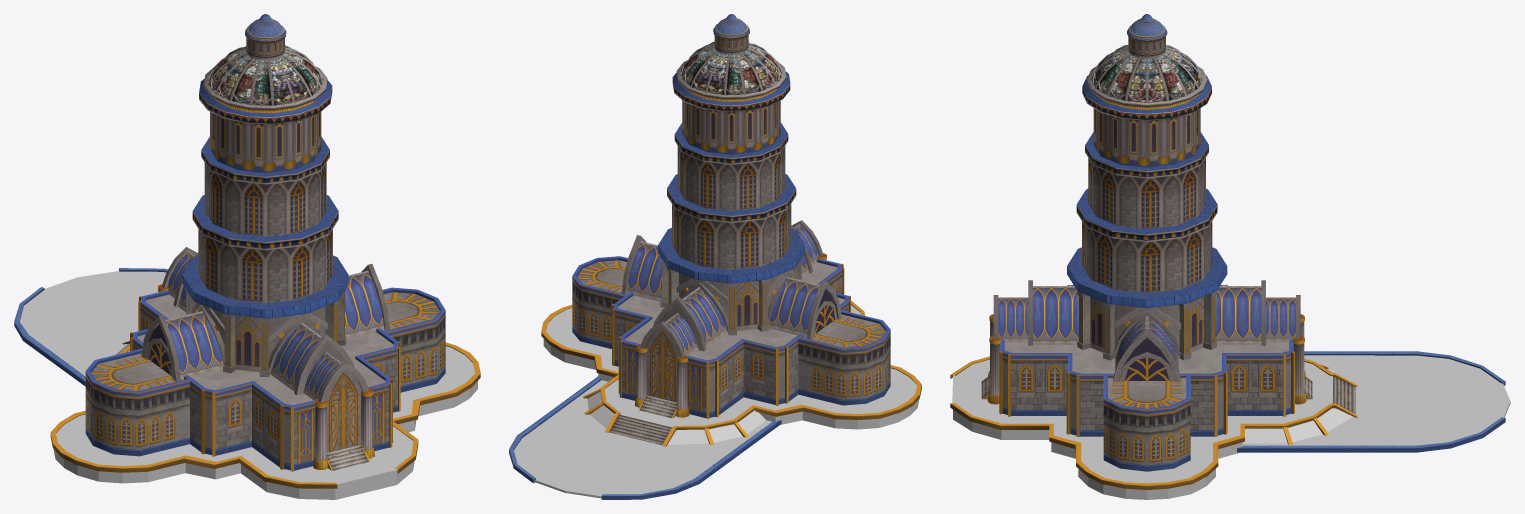
The model's file is NewBattle03_all02.FBX.
The picture shows the model from 3 angles, left to right: view 1: azimuth 30°, elevation 25°; view 2: azimuth 150°, elevation 25°; view 3: azimuth 270°, elevation 25°; orthographic projection. The views are drawn at different scales.
Parts seen in each view (by area): view 1: NewBattle03_wall02_03, NewBattle03_wall02_01, NewBattle03_ground02_01, NewBattle03_wall02_02, NewBattle03_ground02_02, NewBattle03_wall02_04; view 2: NewBattle03_wall02_03, NewBattle03_wall02_01, NewBattle03_ground02_01, NewBattle03_wall02_02, NewBattle03_ground02_02, NewBattle03_wall02_04; view 3: NewBattle03_wall02_03, NewBattle03_wall02_01, NewBattle03_ground02_01, NewBattle03_wall02_02, NewBattle03_ground02_02, NewBattle03_wall02_04.
Boxes of the visible parts, x1=… form: NewBattle03_wall02_03: x1=182, y1=45, x2=348, y2=318; NewBattle03_wall02_01: x1=85, y1=287, x2=445, y2=471; NewBattle03_ground02_01: x1=20, y1=271, x2=477, y2=499; NewBattle03_wall02_02: x1=141, y1=247, x2=389, y2=470; NewBattle03_ground02_02: x1=14, y1=268, x2=480, y2=488; NewBattle03_wall02_04: x1=245, y1=14, x2=286, y2=60; NewBattle03_wall02_03: x1=658, y1=41, x2=804, y2=283; NewBattle03_wall02_01: x1=572, y1=256, x2=890, y2=418; NewBattle03_ground02_01: x1=514, y1=305, x2=919, y2=498; NewBattle03_wall02_02: x1=621, y1=220, x2=841, y2=418; NewBattle03_ground02_02: x1=509, y1=300, x2=921, y2=499; NewBattle03_wall02_04: x1=713, y1=14, x2=749, y2=54; NewBattle03_wall02_03: x1=1067, y1=45, x2=1227, y2=308; NewBattle03_wall02_01: x1=999, y1=284, x2=1294, y2=471; NewBattle03_ground02_01: x1=952, y1=355, x2=1510, y2=499; NewBattle03_wall02_02: x1=981, y1=280, x2=1312, y2=404; NewBattle03_ground02_02: x1=950, y1=351, x2=1505, y2=489; NewBattle03_wall02_04: x1=1127, y1=14, x2=1167, y2=58.
Size of the model in its own units: 84.88 by 80.43 by 104.
